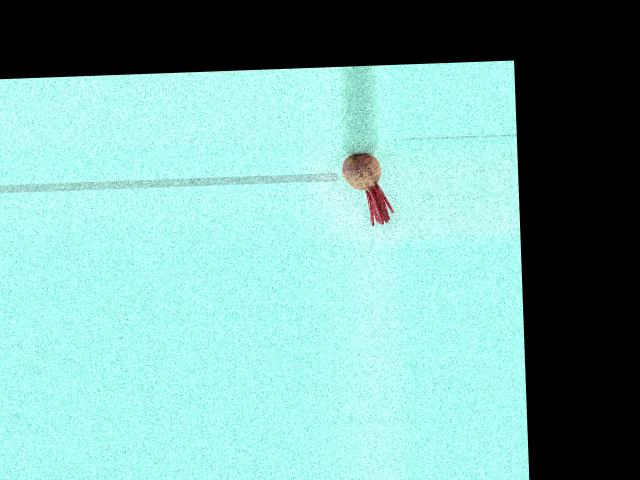beet: (341, 152, 393, 226)
